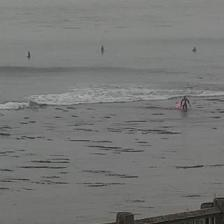surfer: (192, 47, 197, 53), (26, 51, 30, 58), (101, 45, 105, 51)
